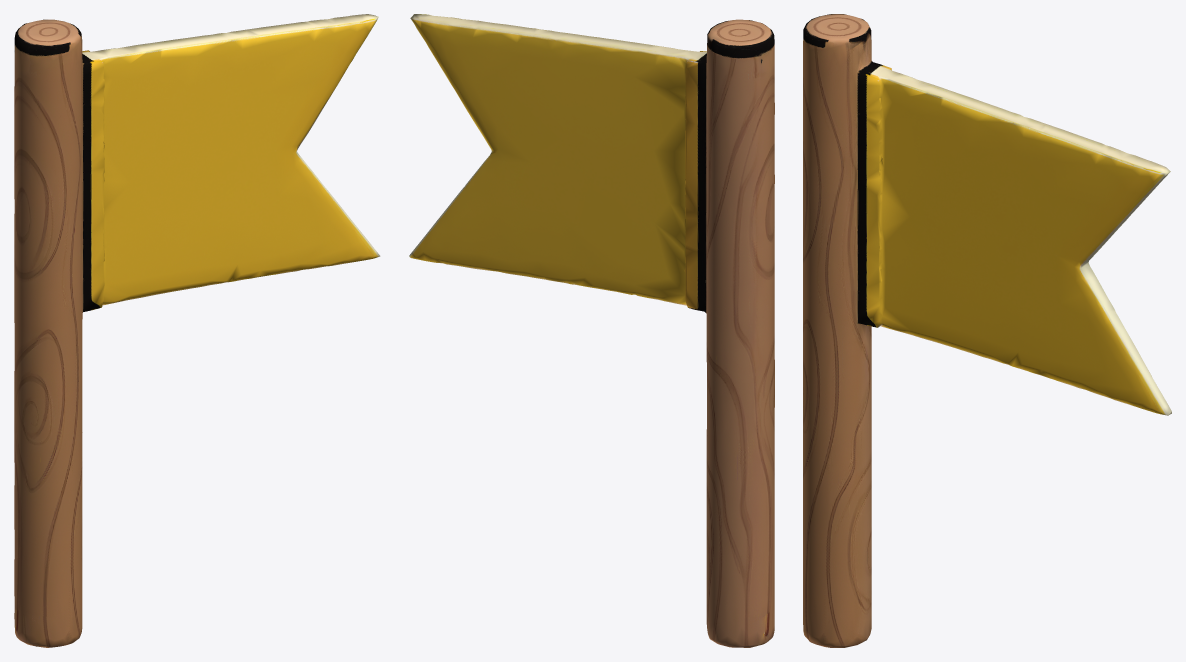
The model's file is RallyPointMarker.fbx.
3 renders of one model, left to right at view 1: azimuth 30°, elevation 25°; view 2: azimuth 150°, elevation 25°; view 3: azimuth 330°, elevation 25°, orthographic.
Parts seen in each view (by area): view 1: Mesh_0; view 2: Mesh_0; view 3: Mesh_0.
Part boxes in pixels (x1,y1,x2,y2): Mesh_0: [14, 14, 380, 647]; Mesh_0: [409, 14, 774, 647]; Mesh_0: [803, 14, 1171, 647].
Bounding box in the file's own units: 119 × 191 × 19.59.
1 material, 1 textured.
